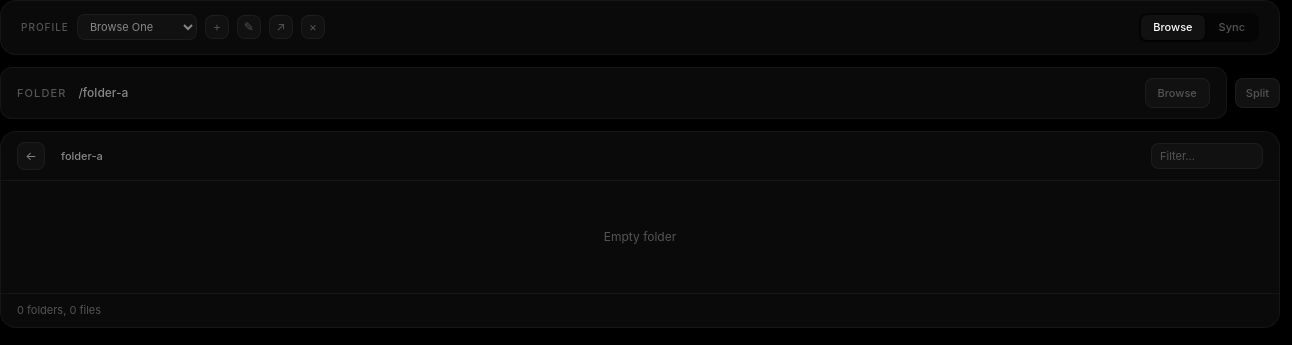
FileManager › switches between profiles and auto-changes mode
The image size is (1292, 345).
Expected: the text "/folder-a" is shown, [78,85,128,100]
Note: Switch to Sync Two via the dropdown
Select "Sync Two" in the dropdown at (137, 27), box [77,14,197,40]
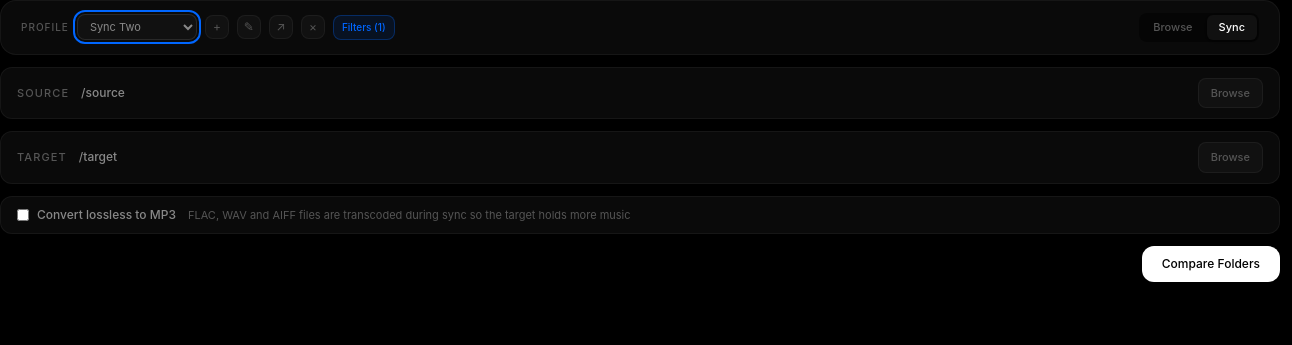
Expected: the text "Source" is shown, [17,84,69,101]
Expected: the text "/source" is shown, [81,85,125,100]
Expected: the text "/target" is shown, [79,149,117,164]
